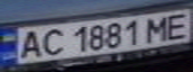1: (121, 17, 145, 46), (66, 24, 90, 53)
8: (103, 19, 127, 49), (87, 21, 109, 52)
A: (12, 28, 48, 60)
C: (36, 26, 69, 56)
E: (160, 10, 193, 40)
M: (139, 14, 175, 43)
